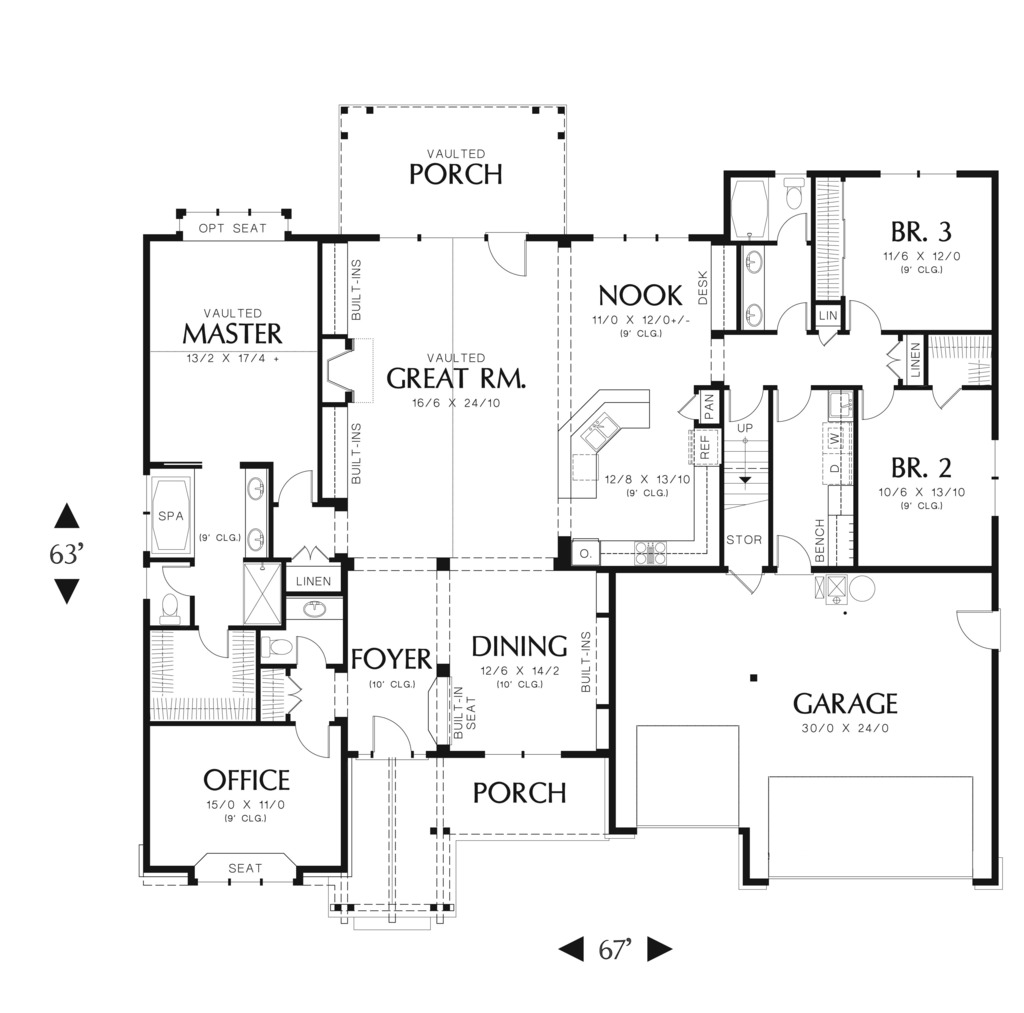door: (476, 217, 537, 281), (773, 370, 825, 428), (950, 606, 1014, 649), (290, 719, 342, 769), (367, 714, 415, 764), (265, 463, 318, 508), (771, 530, 818, 577), (770, 297, 818, 342), (729, 375, 770, 424), (923, 380, 973, 420), (198, 622, 242, 667), (859, 381, 900, 427), (836, 299, 882, 338), (875, 330, 909, 381), (161, 556, 201, 597), (275, 677, 312, 720), (293, 627, 332, 667), (776, 208, 814, 245)
large_sink: (767, 163, 814, 206), (154, 597, 181, 631)
small_sink: (242, 461, 268, 556), (739, 249, 768, 331), (289, 595, 348, 625)
stairs: (711, 427, 778, 577), (725, 425, 773, 567)
tub: (139, 469, 203, 544), (725, 180, 771, 244)
twin_sink: (579, 402, 628, 464)
